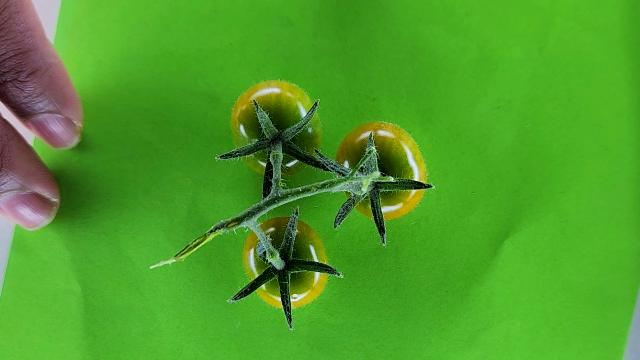Fully Grown: (335, 121, 428, 219), (230, 80, 322, 176), (243, 216, 331, 308)
